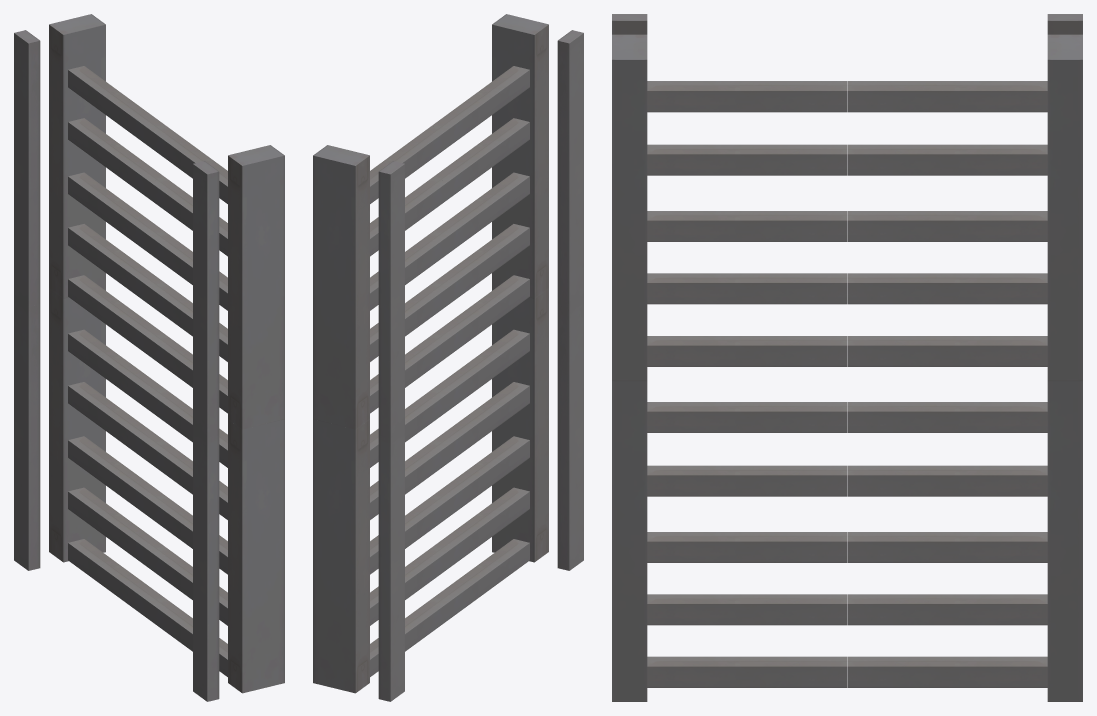
File: WarehouseManager_Stair_1F.obj
The picture shows the model from 3 angles, left to right: view 1: azimuth 30°, elevation 25°; view 2: azimuth 150°, elevation 25°; view 3: azimuth 270°, elevation 25°; orthographic projection. The views are drawn at different scales.
Bounding box in the file's own units: 0.463 × 3.01 × 2.
Materials: 4 (4 with a texture image).
